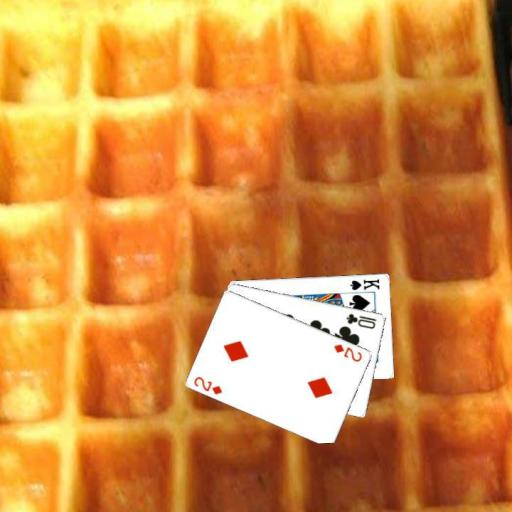10C: (344, 310, 379, 330)
2D: (331, 341, 364, 364), (191, 373, 224, 396)
KS: (347, 275, 382, 291)
